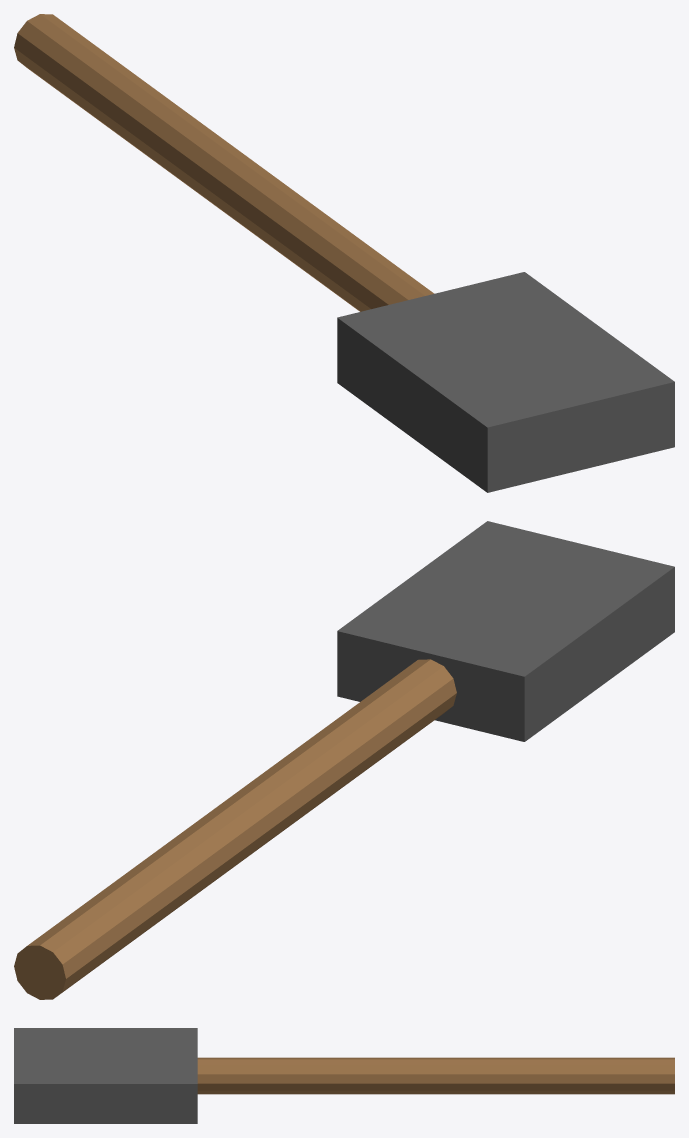
The model's file is torch_unlit_r0_01.glb.
The picture shows the model from 3 angles, top to bottom: view 1: azimuth 30°, elevation 25°; view 2: azimuth 150°, elevation 25°; view 3: azimuth 270°, elevation 25°; orthographic projection. The views are drawn at different scales.
Parts seen in each view (by area): view 1: head, handle; view 2: head, handle; view 3: handle, head.
Part boxes in pixels (left/top/right/bottom): head: left=337, top=272, right=674, bottom=492; handle: left=14, top=14, right=434, bottom=311; head: left=337, top=521, right=674, bottom=741; handle: left=14, top=659, right=456, bottom=999; handle: left=197, top=1057, right=674, bottom=1094; head: left=14, top=1028, right=197, bottom=1123.
Bounding box in the file's own units: 0.18 × 0.06 × 0.9.
